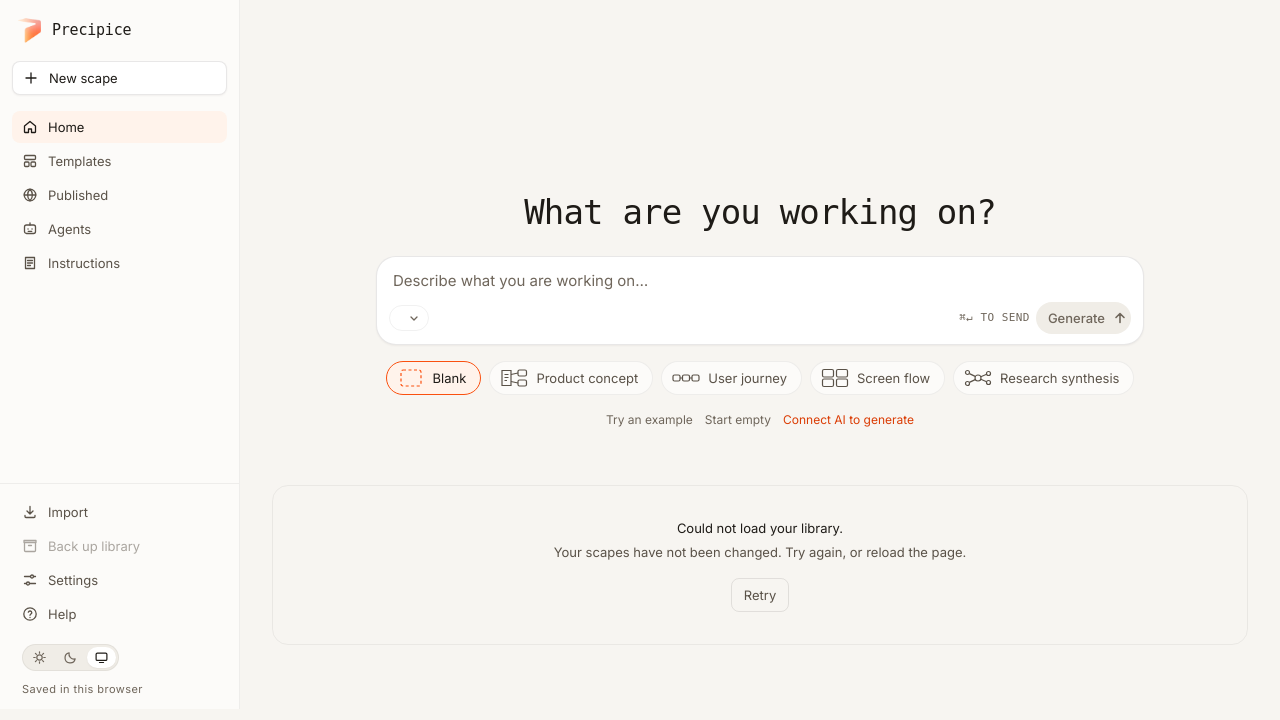
home workflows › offers retry when loading fails
The width and height of the screenshot is (1280, 720).
Step 1. Click the button "Retry" → (760, 595), box 731,578 -> 789,612
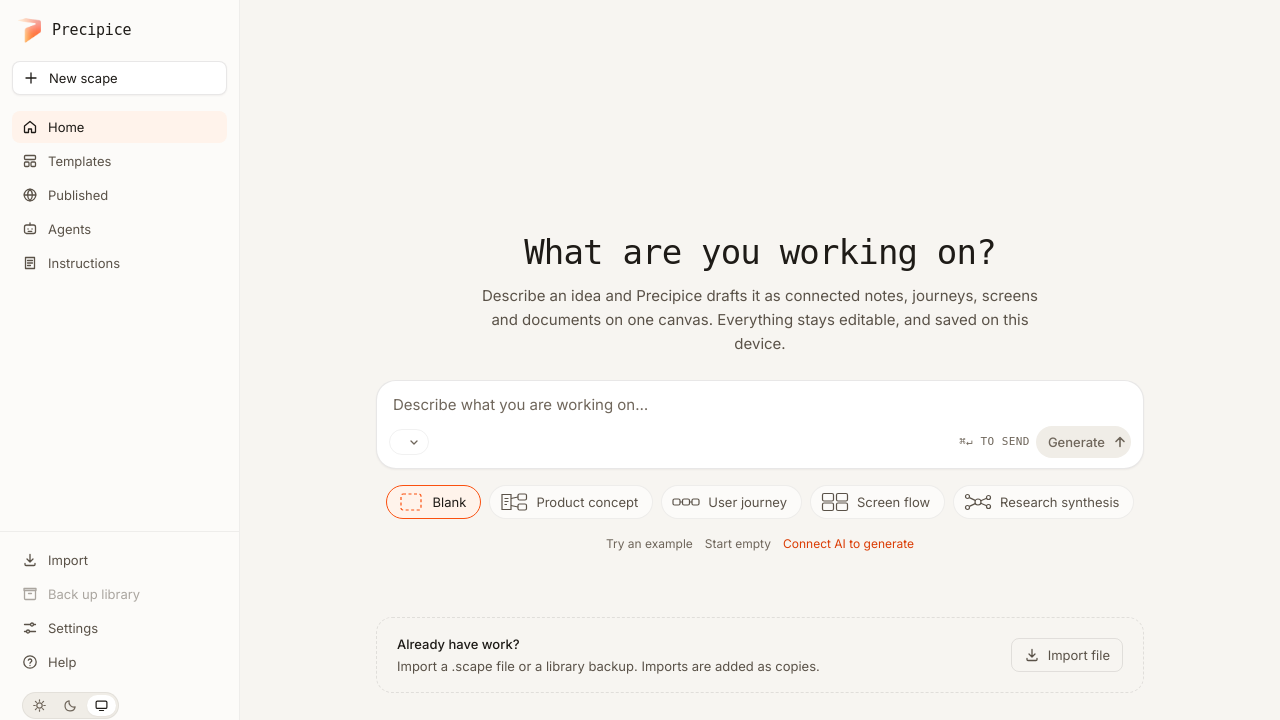
Expected: the text "Already have work?" is shown, 397,636 -> 520,652
